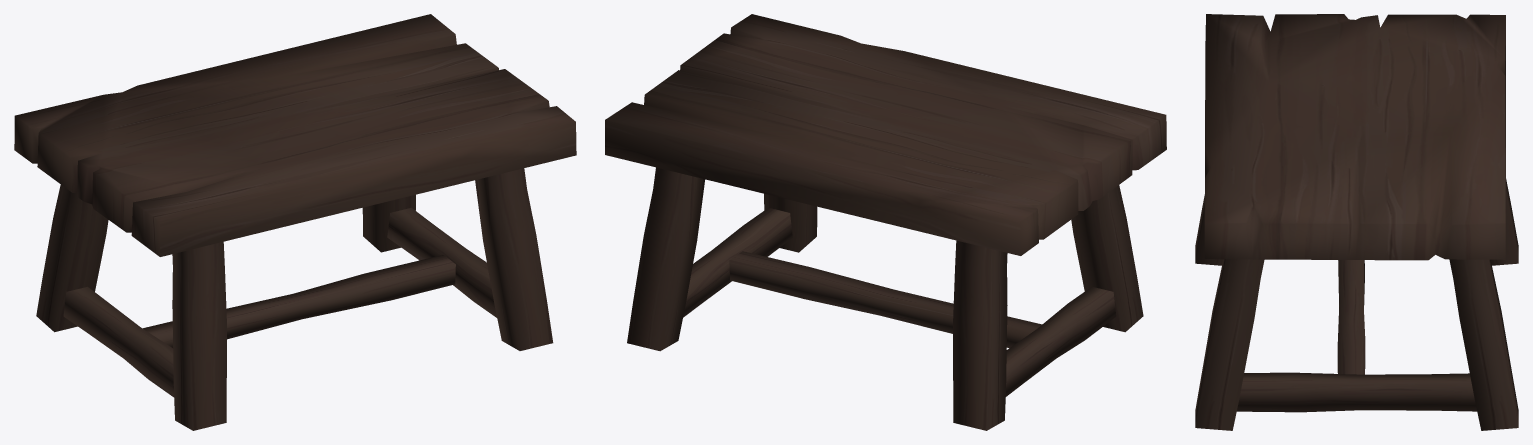
File: table_1.FBX
The picture shows the model from 3 angles, left to right: view 1: azimuth 30°, elevation 25°; view 2: azimuth 150°, elevation 25°; view 3: azimuth 270°, elevation 25°; orthographic projection. The views are drawn at different scales.
Parts seen in each view (by area): view 1: Object011; view 2: Object011; view 3: Object011.
Boxes of the visible parts, x1,y1,x2,y2 form: Object011: [14, 14, 576, 430]; Object011: [605, 14, 1166, 430]; Object011: [1195, 14, 1518, 430].
Bounding box in the file's own units: 69.78 × 34.46 × 45.56.
